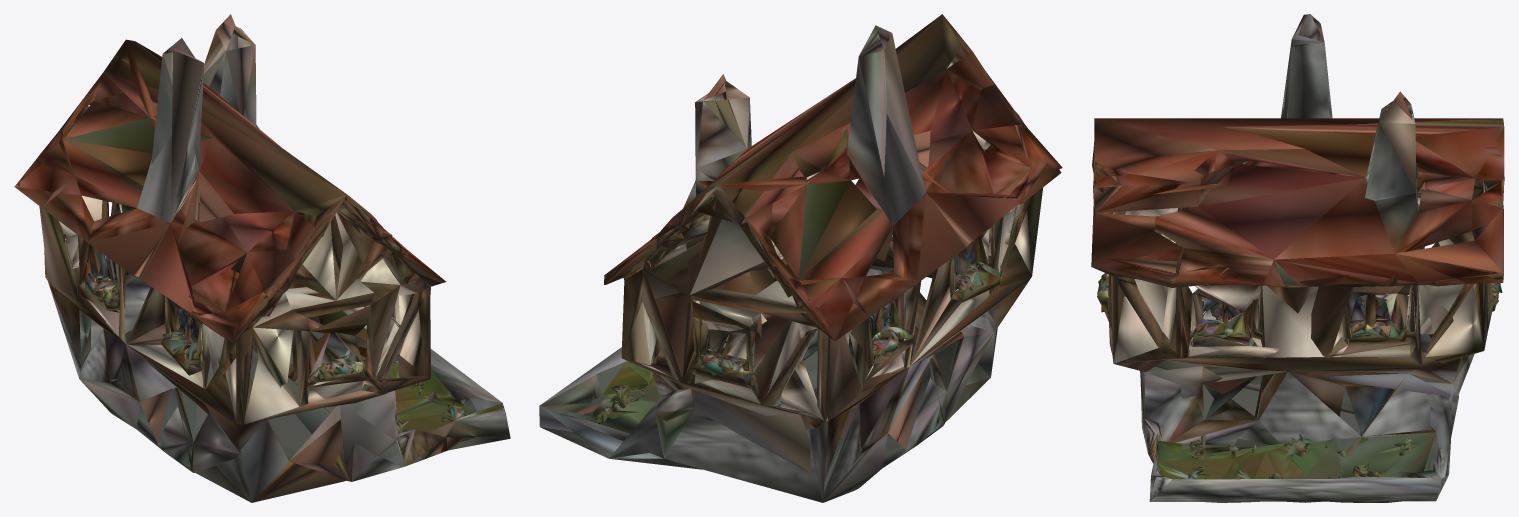
File: house_family_lod1.glb
The picture shows the model from 3 angles, left to right: view 1: azimuth 30°, elevation 25°; view 2: azimuth 150°, elevation 25°; view 3: azimuth 270°, elevation 25°; orthographic projection. The views are drawn at different scales.
Visible parts, largest first — view 1: Mesh_0; view 2: Mesh_0; view 3: Mesh_0.
Part boxes in pixels (<box>): Mesh_0: <box>14,14,510,502</box>; Mesh_0: <box>539,14,1062,502</box>; Mesh_0: <box>1091,14,1504,502</box>.
Bounding box in the file's own units: 1.57 × 1.89 × 1.87.
1 material, 1 textured.
